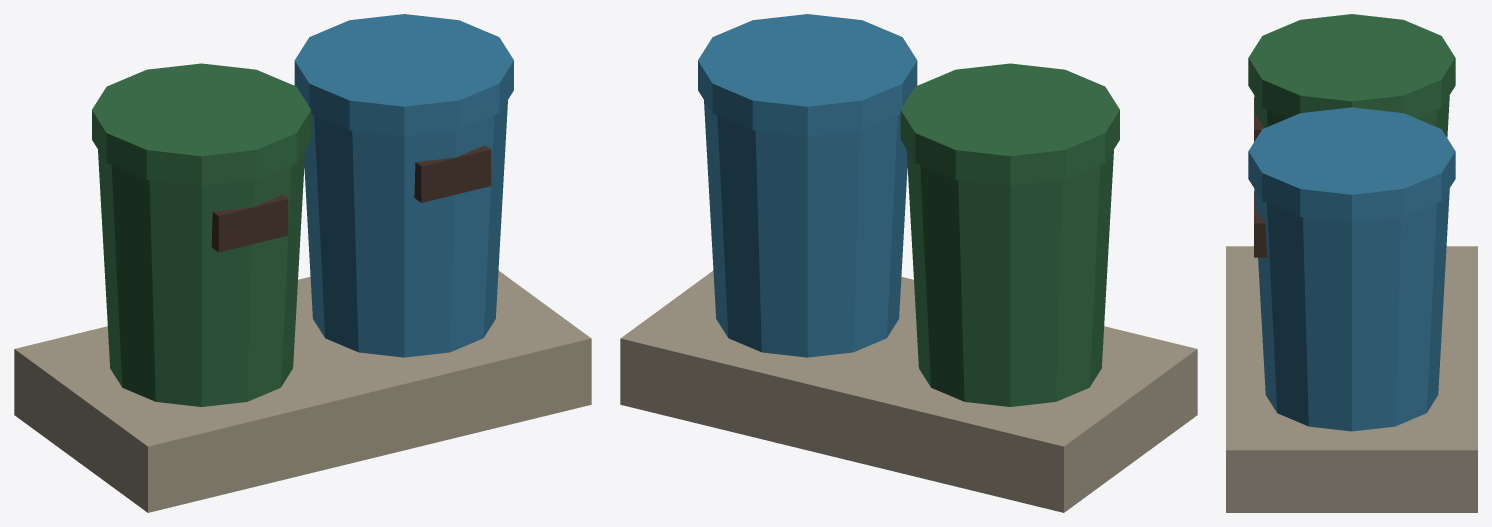
The model's file is 050_twin_litter_bins.glb.
3 views of the same model, side by side, from view 1: azimuth 30°, elevation 25°; view 2: azimuth 150°, elevation 25°; view 3: azimuth 270°, elevation 25° (orthographic). The views are drawn at different scales.
Visible parts, largest first — view 1: Twin litter bins; view 2: Twin litter bins; view 3: Twin litter bins.
Boxes of the visible parts, x1,y1,x2,y2 form: Twin litter bins: [14, 14, 591, 512]; Twin litter bins: [620, 14, 1197, 512]; Twin litter bins: [1226, 14, 1477, 512].
Bounding box in the file's own units: 1.4 × 0.98 × 0.73.
